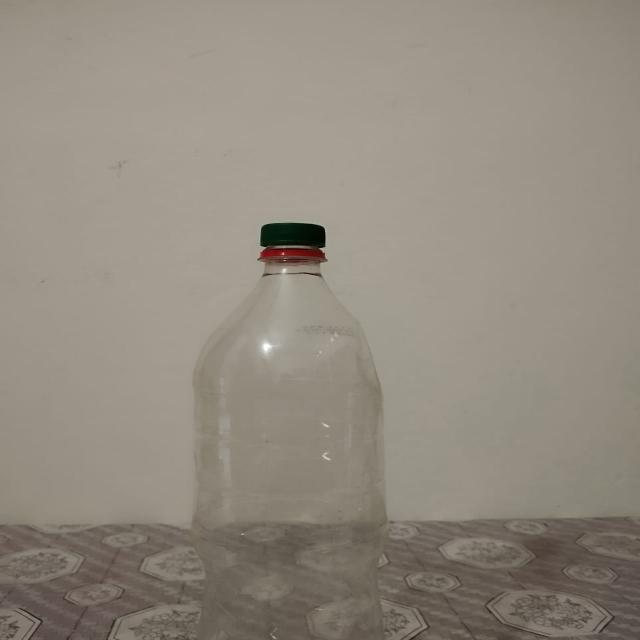bottle: (193, 222, 384, 640)
cap: (259, 223, 327, 259)
